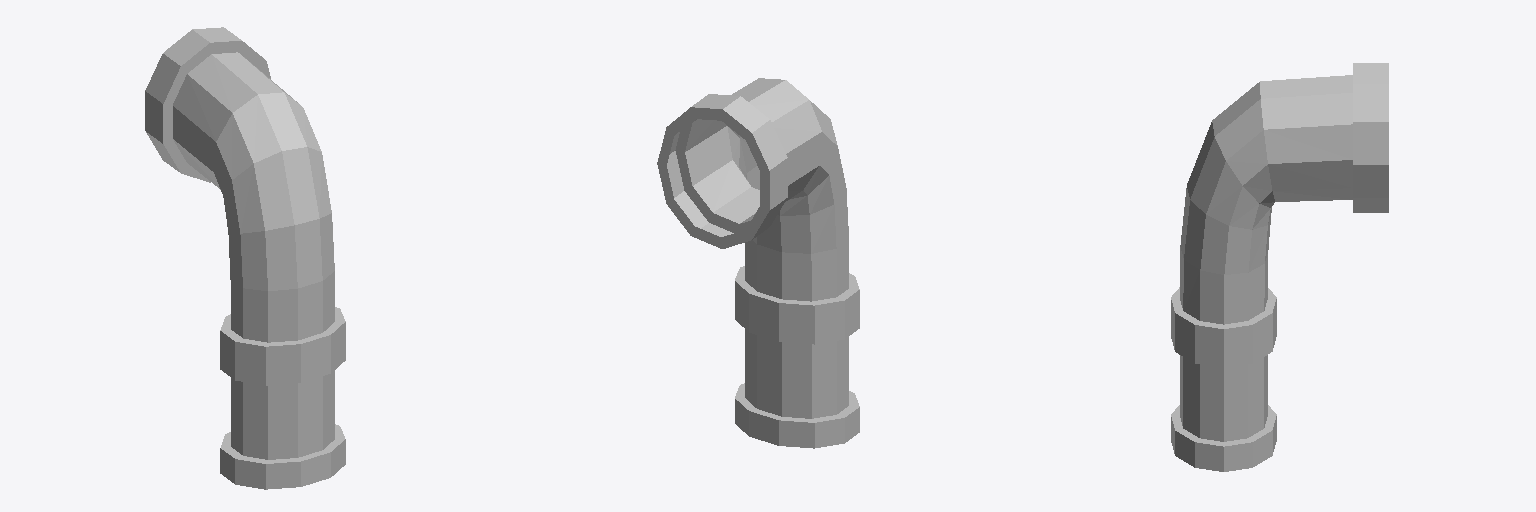
File: pipe.obj
3 renders of one model, left to right at view 1: azimuth 30°, elevation 25°; view 2: azimuth 150°, elevation 25°; view 3: azimuth 270°, elevation 25°, orthographic.
Visible parts, largest first — view 1: pipe; view 2: pipe; view 3: pipe.
Part boxes in pixels (x1,y1,x2,y2): pipe: (145, 27, 345, 489); pipe: (657, 78, 859, 448); pipe: (1171, 63, 1388, 471).
Size of the model in its own units: 2.84 by 9.12 by 4.78.